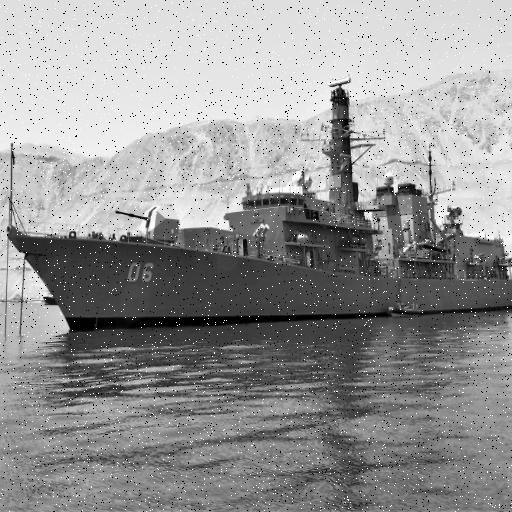Fragata: (5, 70, 512, 340)
